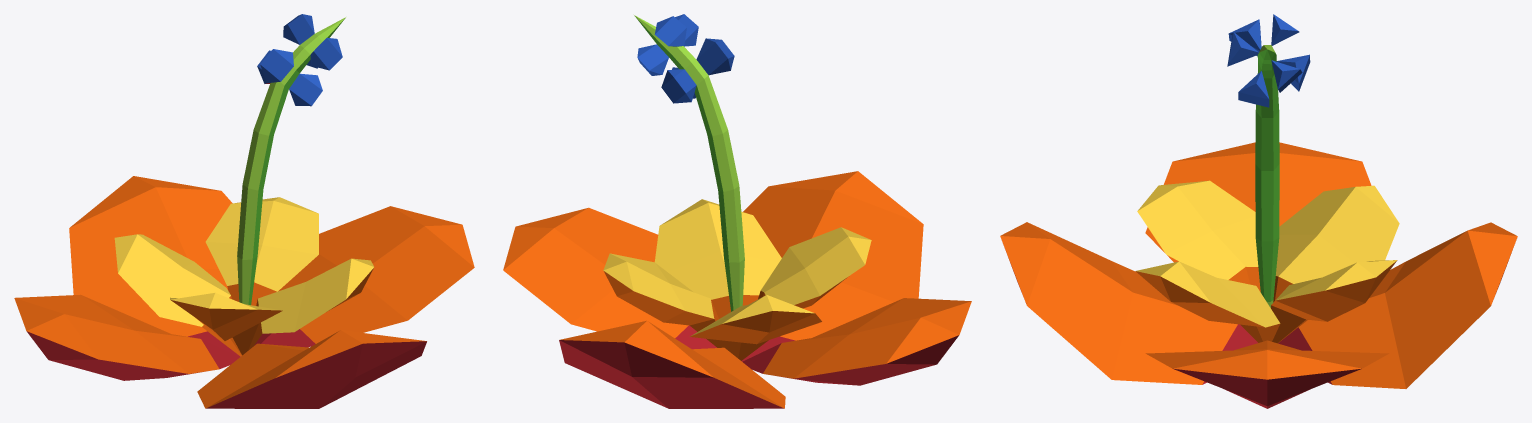
Rendered from Island flower.fbx.
3 renders of one model, left to right at view 1: azimuth 30°, elevation 25°; view 2: azimuth 150°, elevation 25°; view 3: azimuth 270°, elevation 25°, orthographic. The views are drawn at different scales.
Parts seen in each view (by area): view 1: Sphere.005; view 2: Sphere.005; view 3: Sphere.005.
Part boxes in pixels (x1,y1,x2,y2): Sphere.005: [14, 14, 474, 408]; Sphere.005: [503, 14, 971, 408]; Sphere.005: [1000, 14, 1517, 408].
Size of the model in its own units: 401 by 289 by 365.
